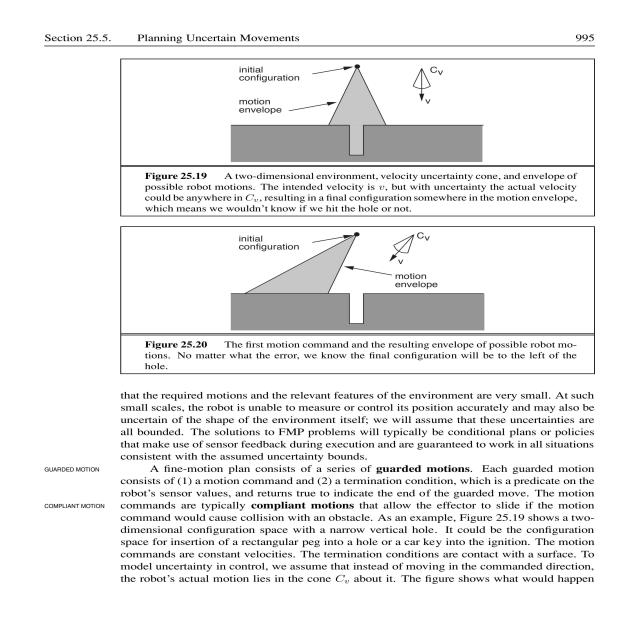diagram: (111, 49, 595, 379)
